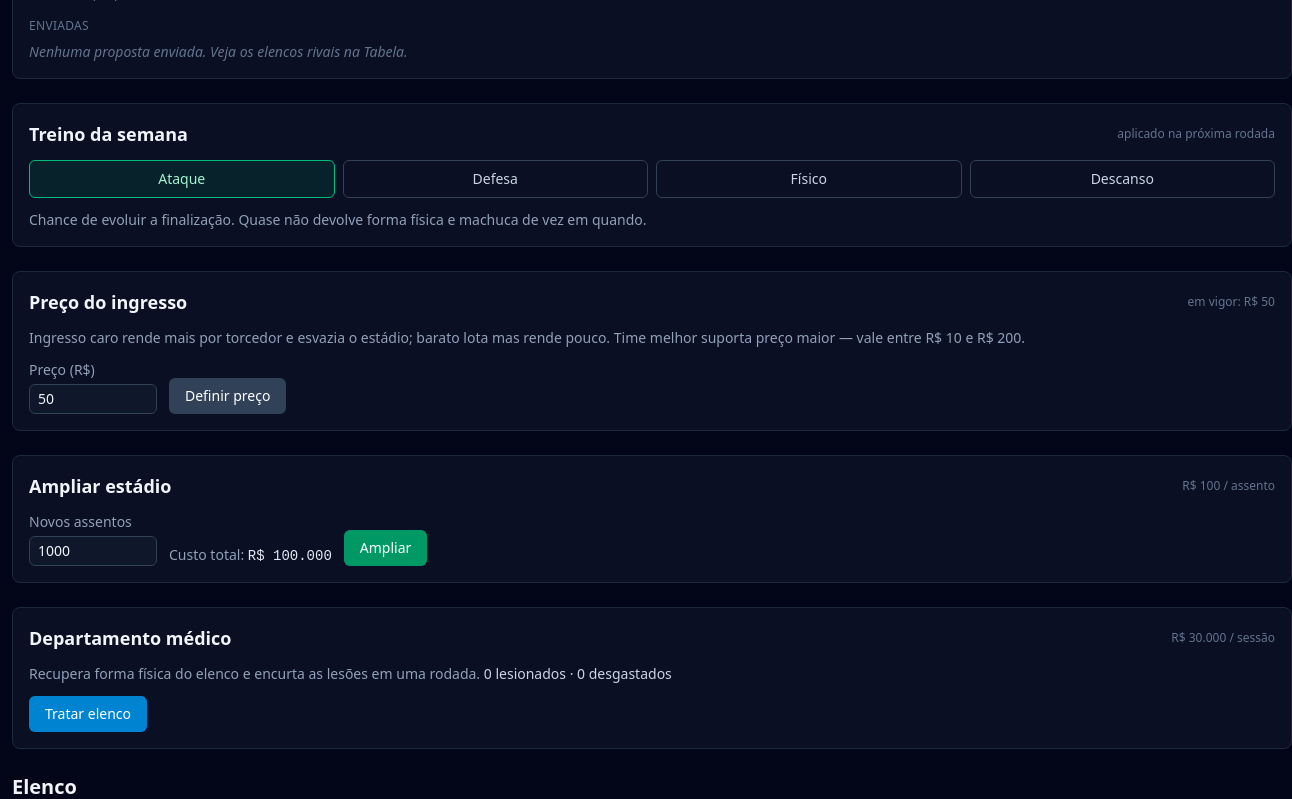
DashboardPage › define o preço do ingresso (issue #59)
(page scrolled)
Expected: the text "em vigor: R$ 50" is shown, [1188,294,1275,310]
Replace the text in the number field labelled "Preço (R$)" with "90" at point(93, 399), box [29,384,157,414]
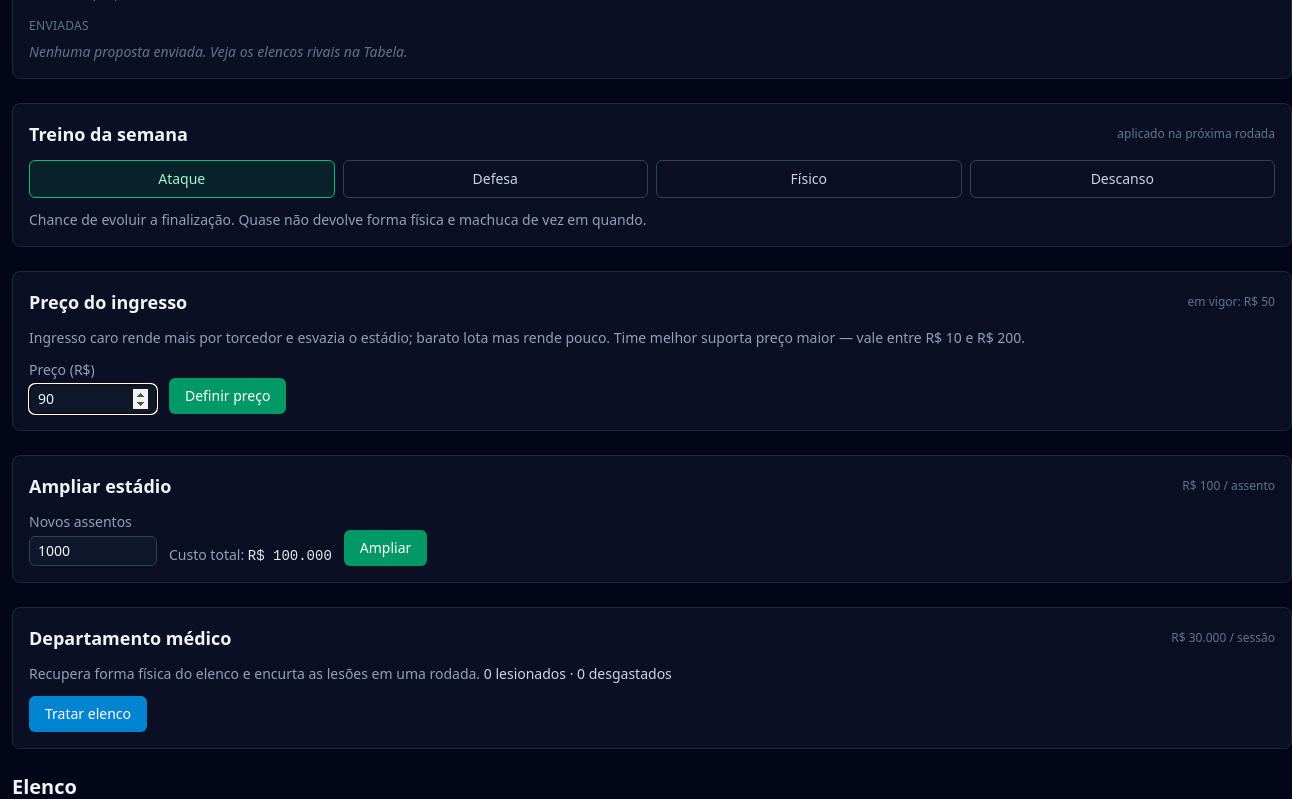
Click the button "Definir preço" at point(228, 396), box [169,378,286,414]
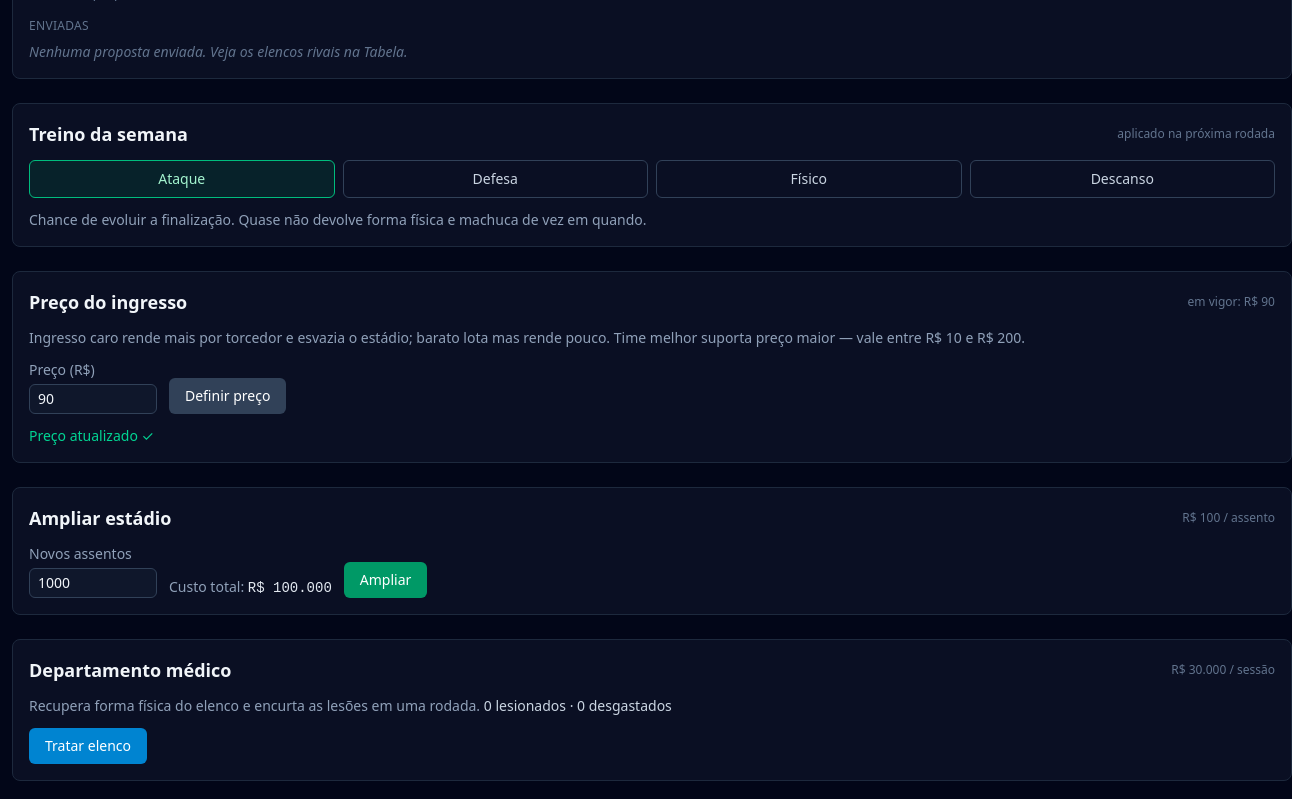
Result: the text "em vigor: R$ 90" is shown at [1188,294,1275,310]
Result: the text "Preço atualizado ✓" is shown at [29,426,154,445]
